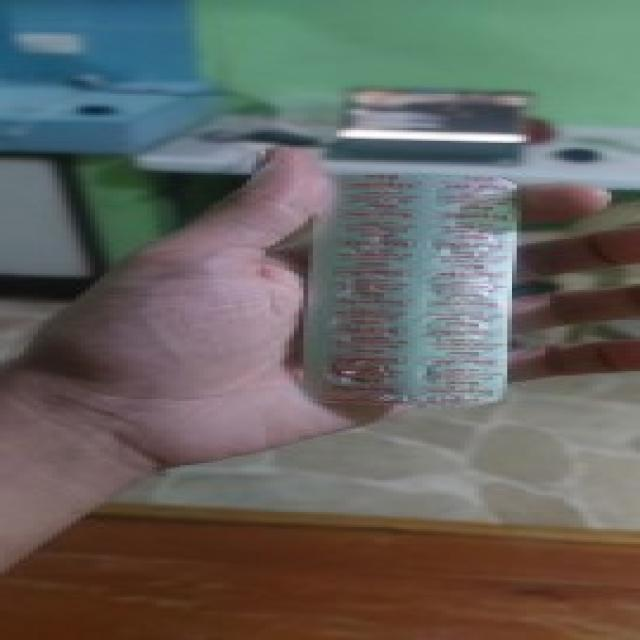Cacat: (306, 170, 519, 404)
